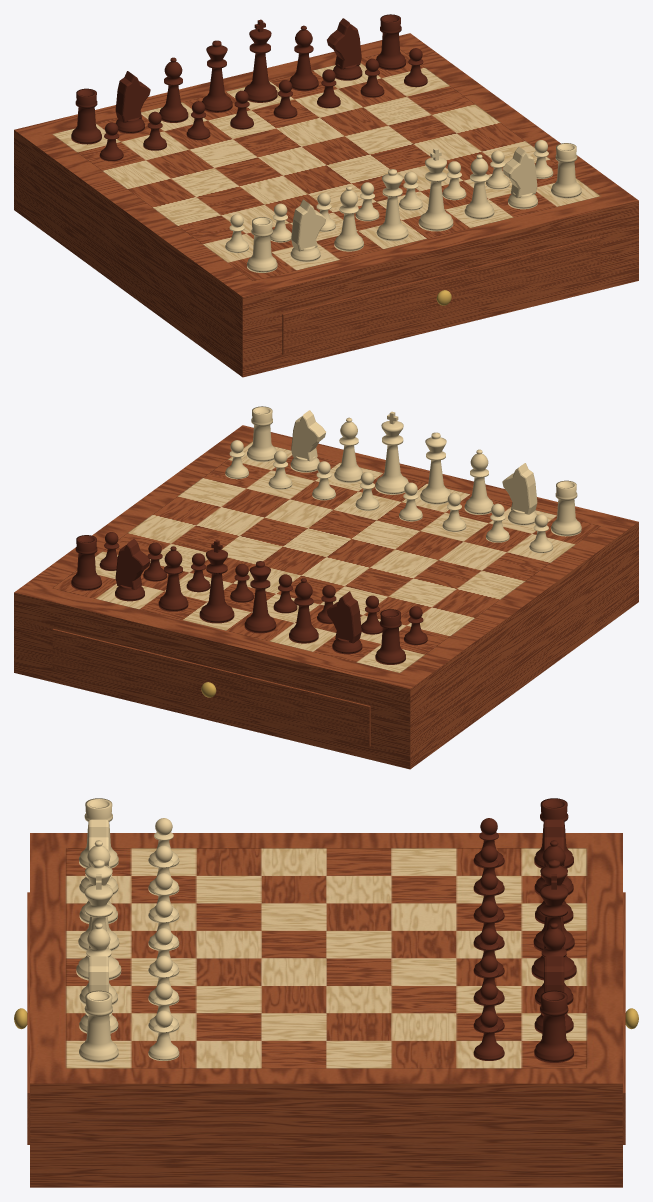
The model's file is philidor-3d-erable-magnetique-31.glb.
3 views of the same model, one above another, from view 1: azimuth 30°, elevation 25°; view 2: azimuth 150°, elevation 25°; view 3: azimuth 270°, elevation 25° (orthographic). The views are drawn at different scales.
Parts seen in each view (by area): view 1: erable-magnetique-31; view 2: erable-magnetique-31; view 3: erable-magnetique-31.
Boxes of the visible parts, bbox=[...] form: erable-magnetique-31: bbox=[14, 14, 638, 377]; erable-magnetique-31: bbox=[14, 406, 638, 769]; erable-magnetique-31: bbox=[14, 798, 638, 1187].
Size of what is drawn, in the model's own units: 0.31 by 0.116 by 0.3267.
Materials: 6 (3 with a texture image).
